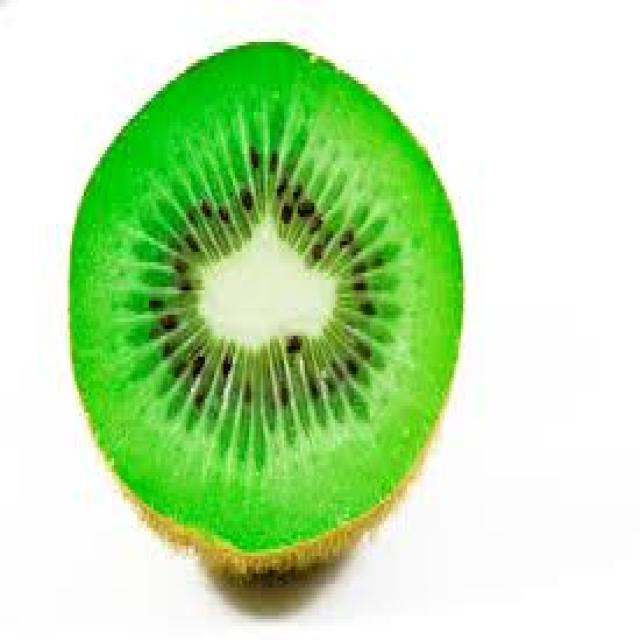Organik: (65, 24, 474, 586)
